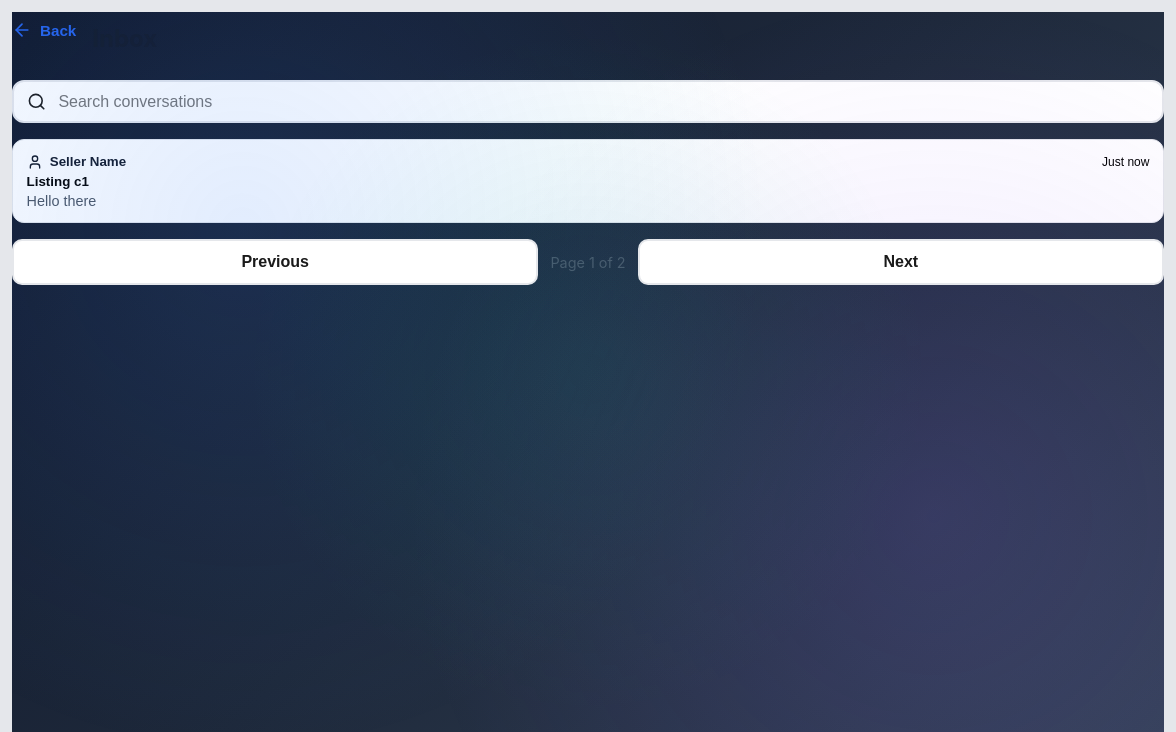
Test: ConversationInbox › supports pagination controls and fetches next page
Expected: the text "Listing c1" is shown, [27, 174, 89, 189]
Click the button "Next" at point(901, 262), box [638, 239, 1164, 285]
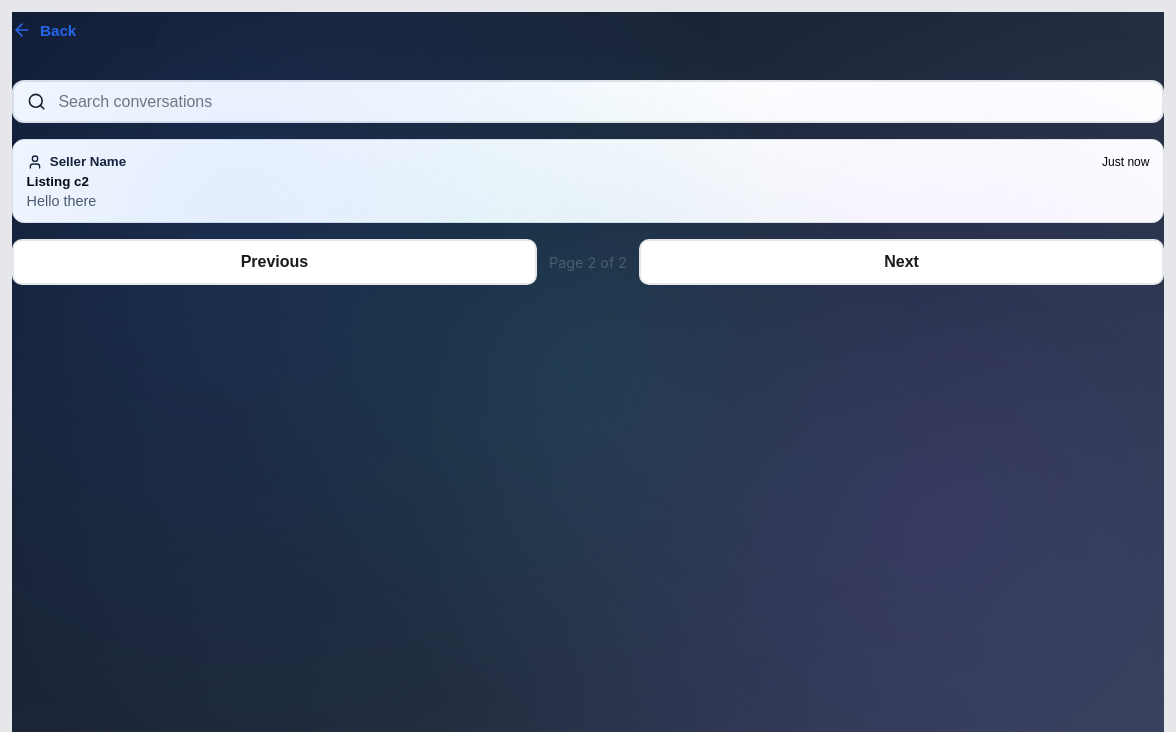
Expected: the text "Listing c2" is shown, [27, 174, 89, 189]
